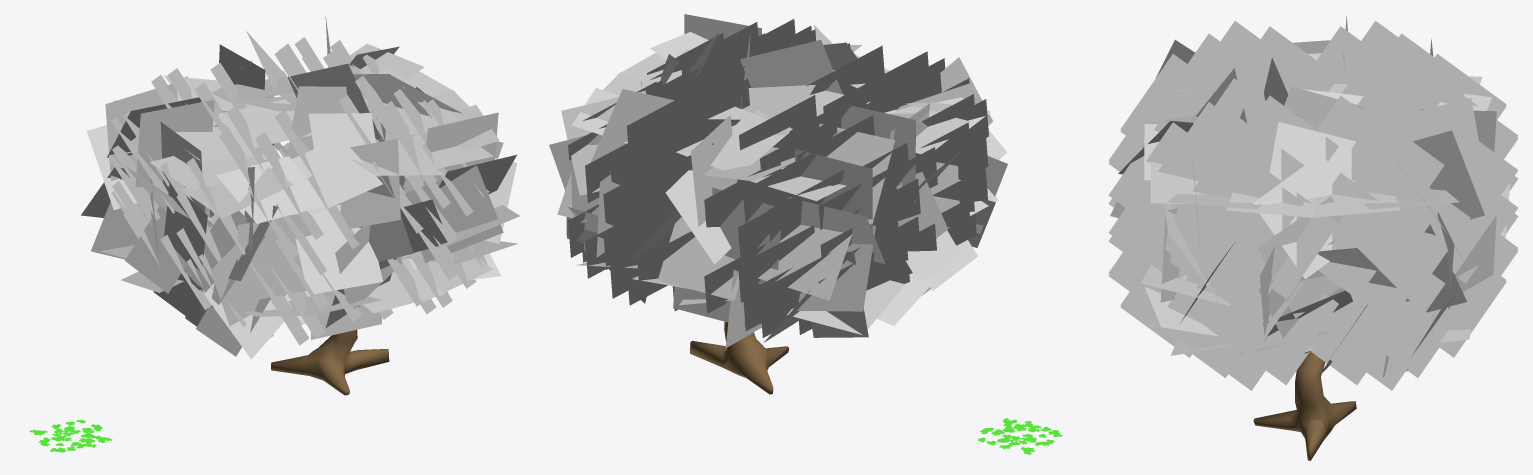
Rendered from Trees.fbx.
3 renders of one model, left to right at view 1: azimuth 30°, elevation 25°; view 2: azimuth 150°, elevation 25°; view 3: azimuth 270°, elevation 25°, orthographic. The views are drawn at different scales.
Visible parts, largest first — view 1: Cube, Tree1, Instance01; view 2: Cube, Tree1, Instance01; view 3: Cube, Tree1.
Boxes of the visible parts, x1,y1,x2,y2 form: Cube: (81,16,520,359); Tree1: (271,187,404,395); Instance01: (29,419,112,452); Cube: (549,14,1007,347); Tree1: (690,322,788,394); Instance01: (977,418,1062,454); Cube: (1108,16,1518,390); Tree1: (1253,351,1356,460).
Bounding box in the file's own units: 1223 × 830 × 886.
